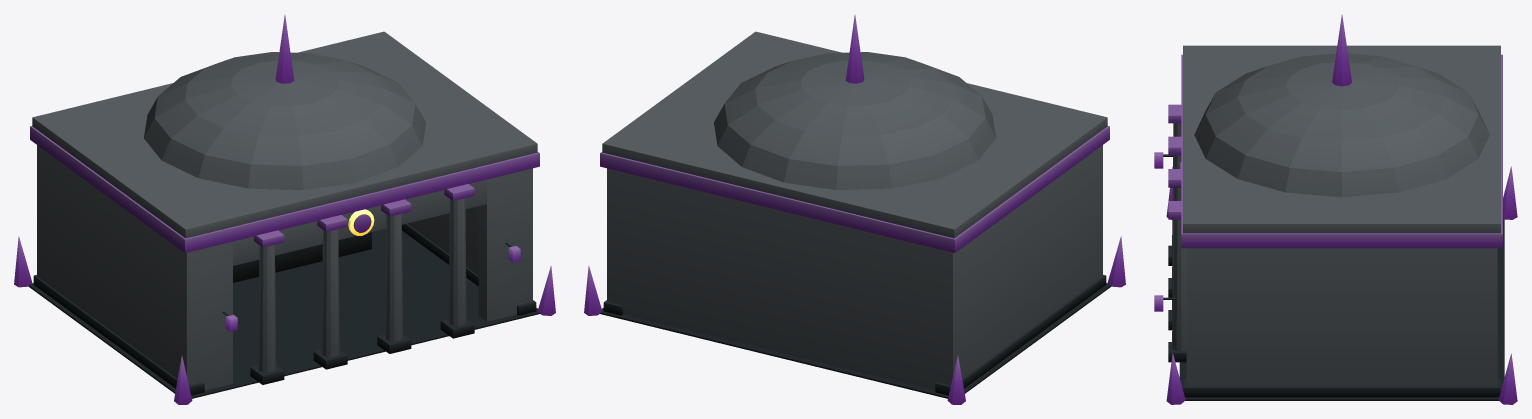
Rendered from bank_duskhold.glb.
The picture shows the model from 3 angles, left to right: view 1: azimuth 30°, elevation 25°; view 2: azimuth 150°, elevation 25°; view 3: azimuth 270°, elevation 25°; orthographic projection. The views are drawn at different scales.
Visible parts, largest first — view 1: bank_duskhold; view 2: bank_duskhold; view 3: bank_duskhold.
Boxes of the visible parts, box(x1,y1,x2,y2) form: bank_duskhold: box(14, 15, 555, 404); bank_duskhold: box(584, 15, 1125, 404); bank_duskhold: box(1154, 14, 1517, 404).
Size of the model in its own units: 13.08 by 9.47 by 10.51.
Materials: 6 (6 with a texture image).
